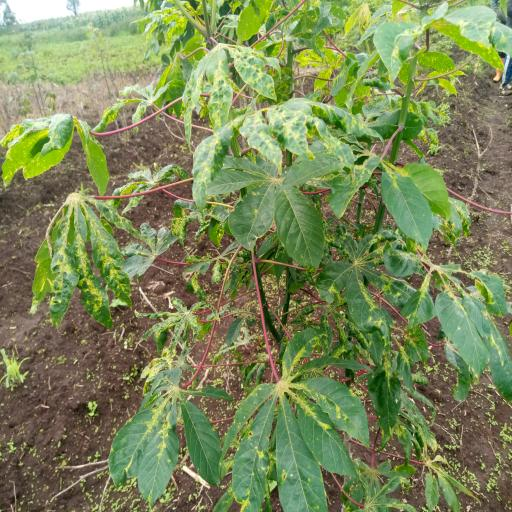Cassava_Mosaic: (184, 85, 365, 221), (237, 337, 366, 512), (110, 344, 214, 486), (409, 258, 512, 399), (34, 196, 140, 329)
